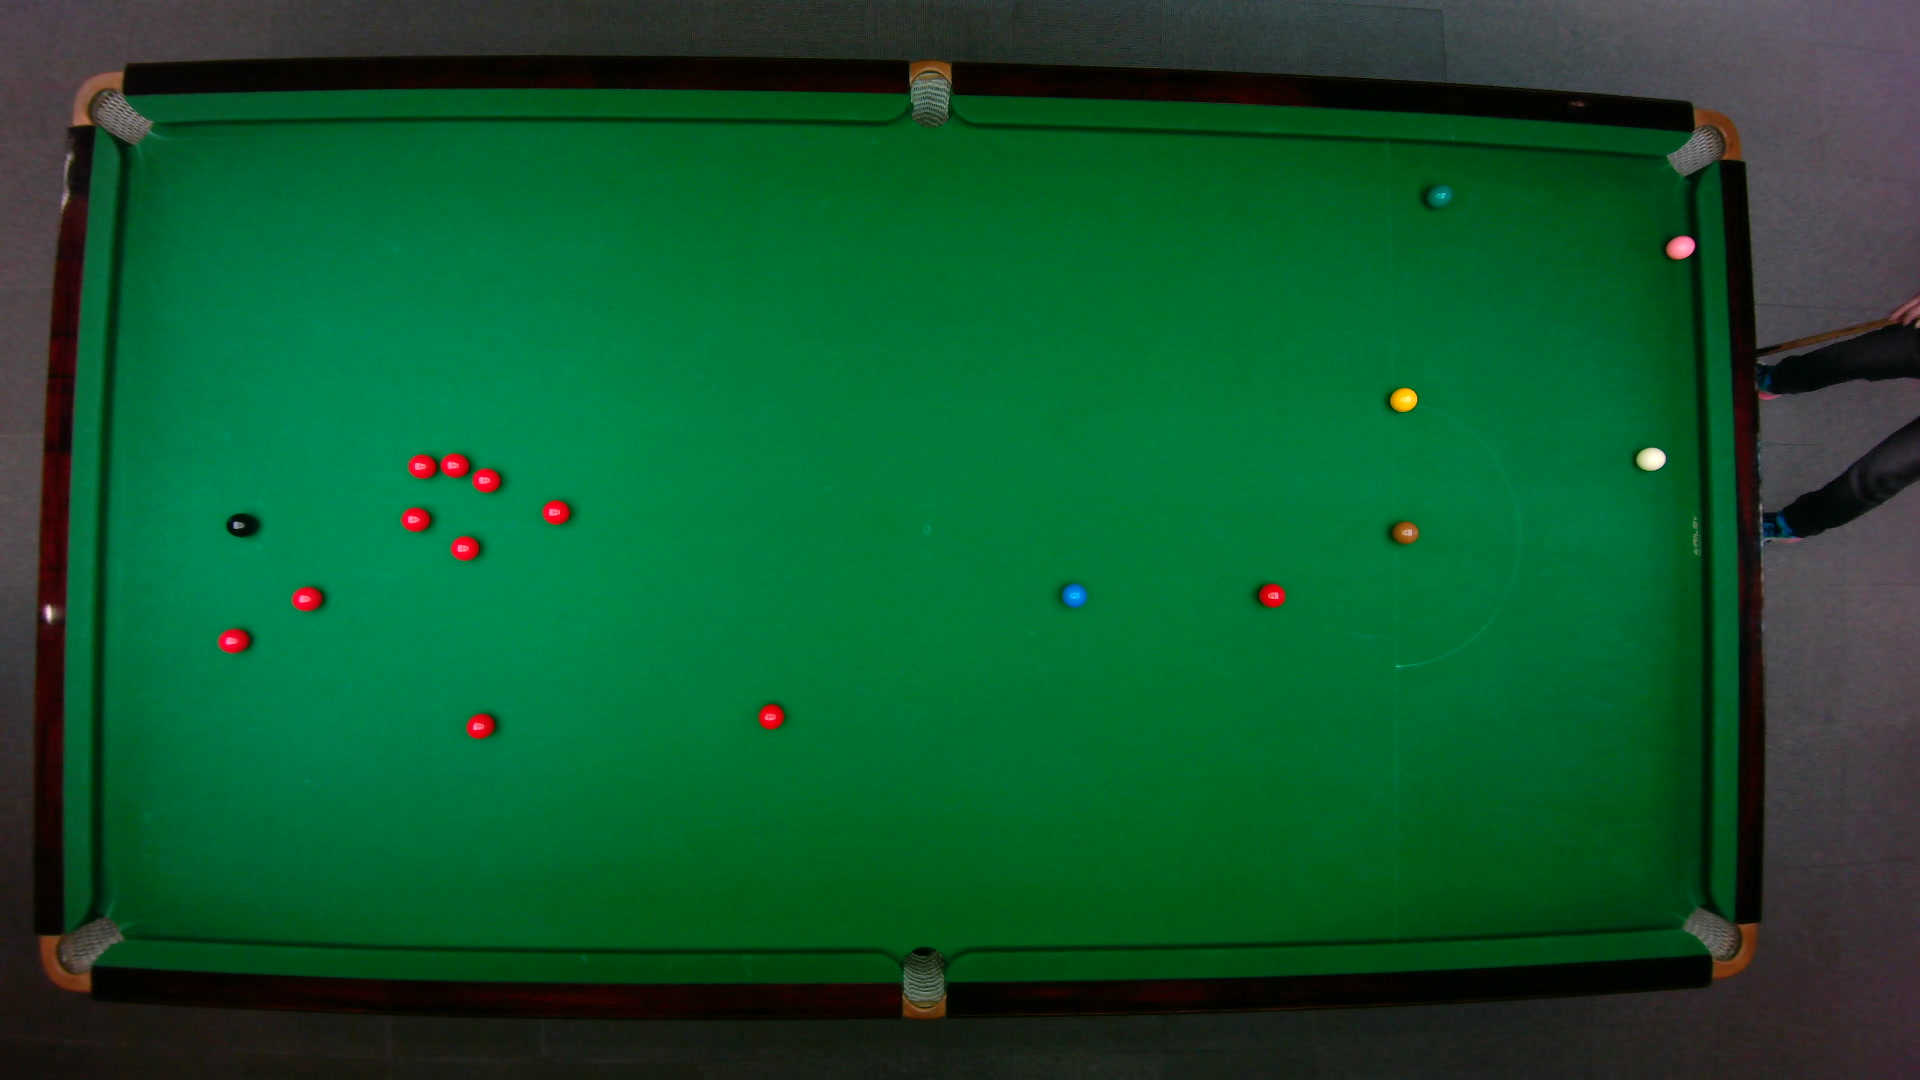bag: (37, 914, 125, 993), (69, 69, 152, 145), (1679, 905, 1756, 978), (1663, 107, 1741, 177), (901, 944, 944, 1021), (909, 58, 949, 128)
black: (223, 512, 256, 537)
blue: (1060, 582, 1088, 607)
brown: (1390, 520, 1419, 545)
green: (1423, 182, 1453, 208)
pink: (1663, 232, 1697, 260)
red: (215, 626, 251, 653), (289, 584, 323, 611), (448, 533, 480, 560), (464, 711, 496, 738), (756, 702, 785, 731), (439, 450, 469, 477), (398, 505, 430, 531), (469, 465, 501, 492), (405, 452, 436, 479), (1255, 582, 1286, 608), (541, 498, 570, 525)
white: (1634, 444, 1667, 469)
yellow: (1389, 385, 1418, 411)
zone: (1390, 402, 1520, 667)
